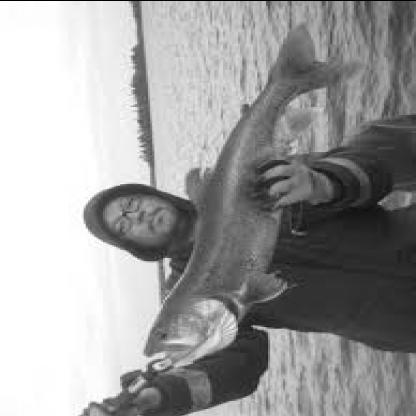fish: (134, 30, 350, 370)
